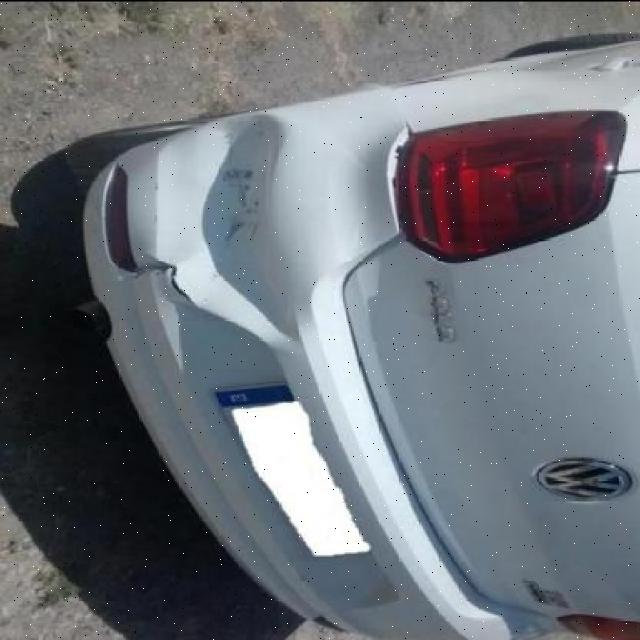damage: (101, 114, 301, 351), (371, 110, 419, 249)
